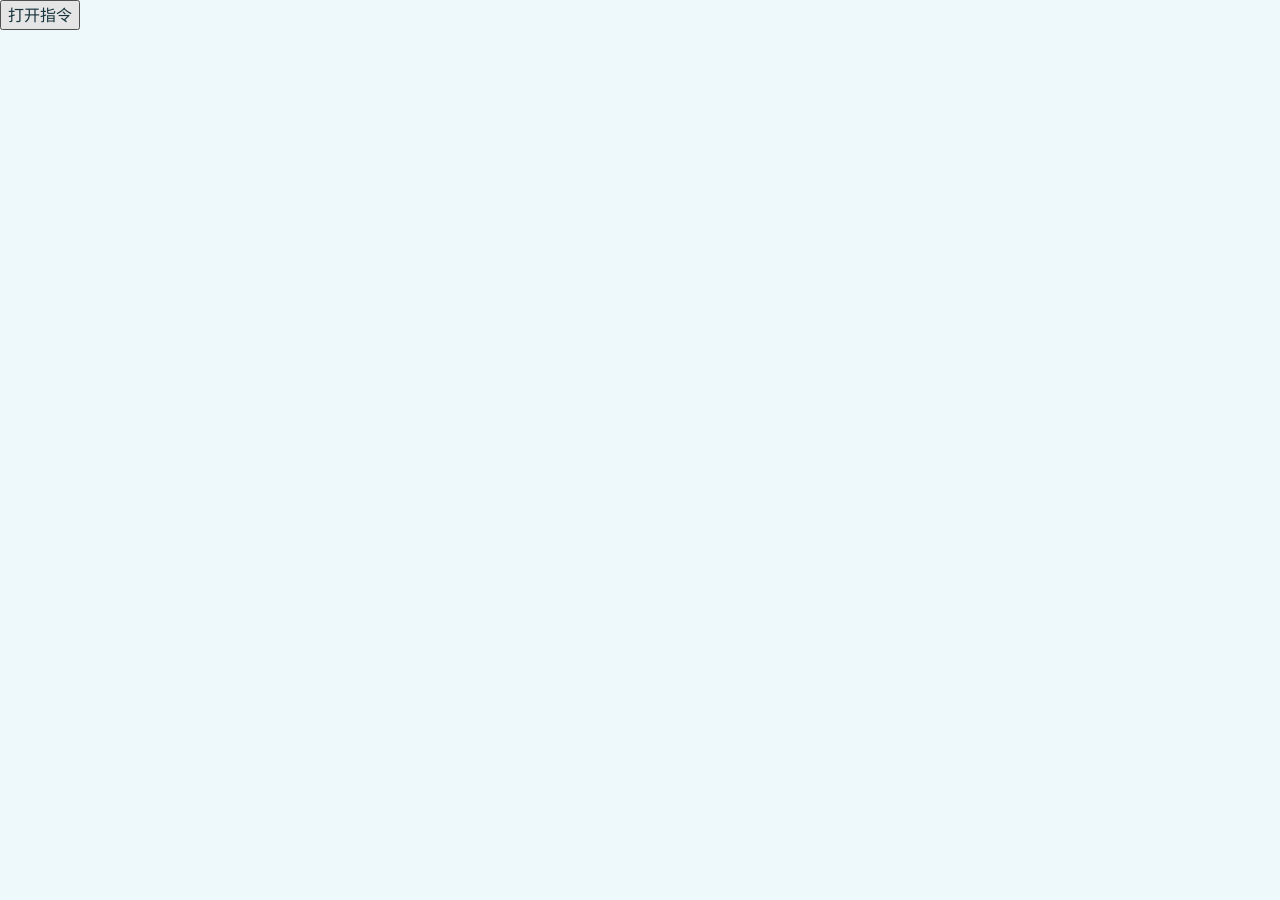
Test: CommandPalette › opens with Ctrl+K and executes the selected command
Press k
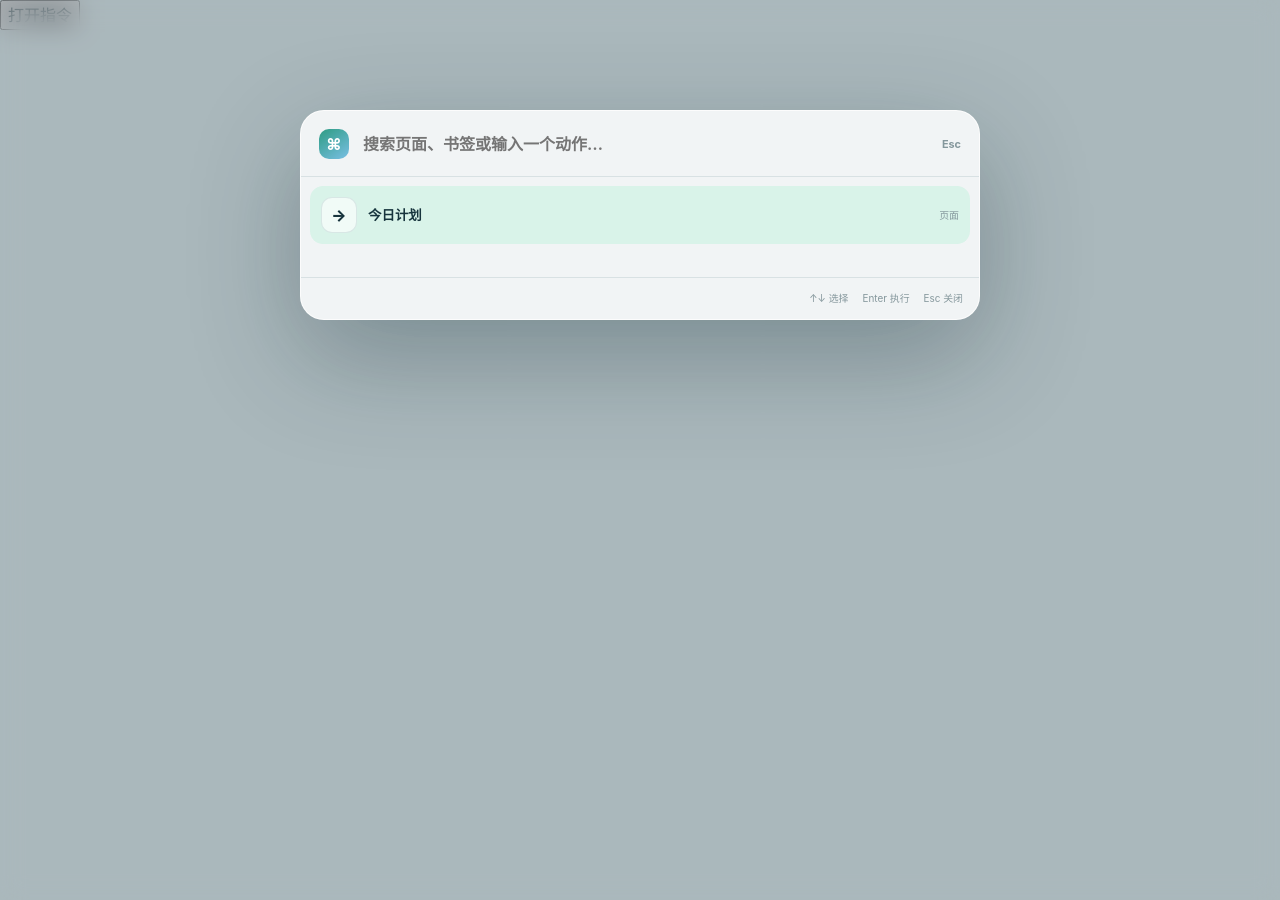
In the dropdown named "搜索指令": (645, 144) [361, 116, 930, 170], type "今日"
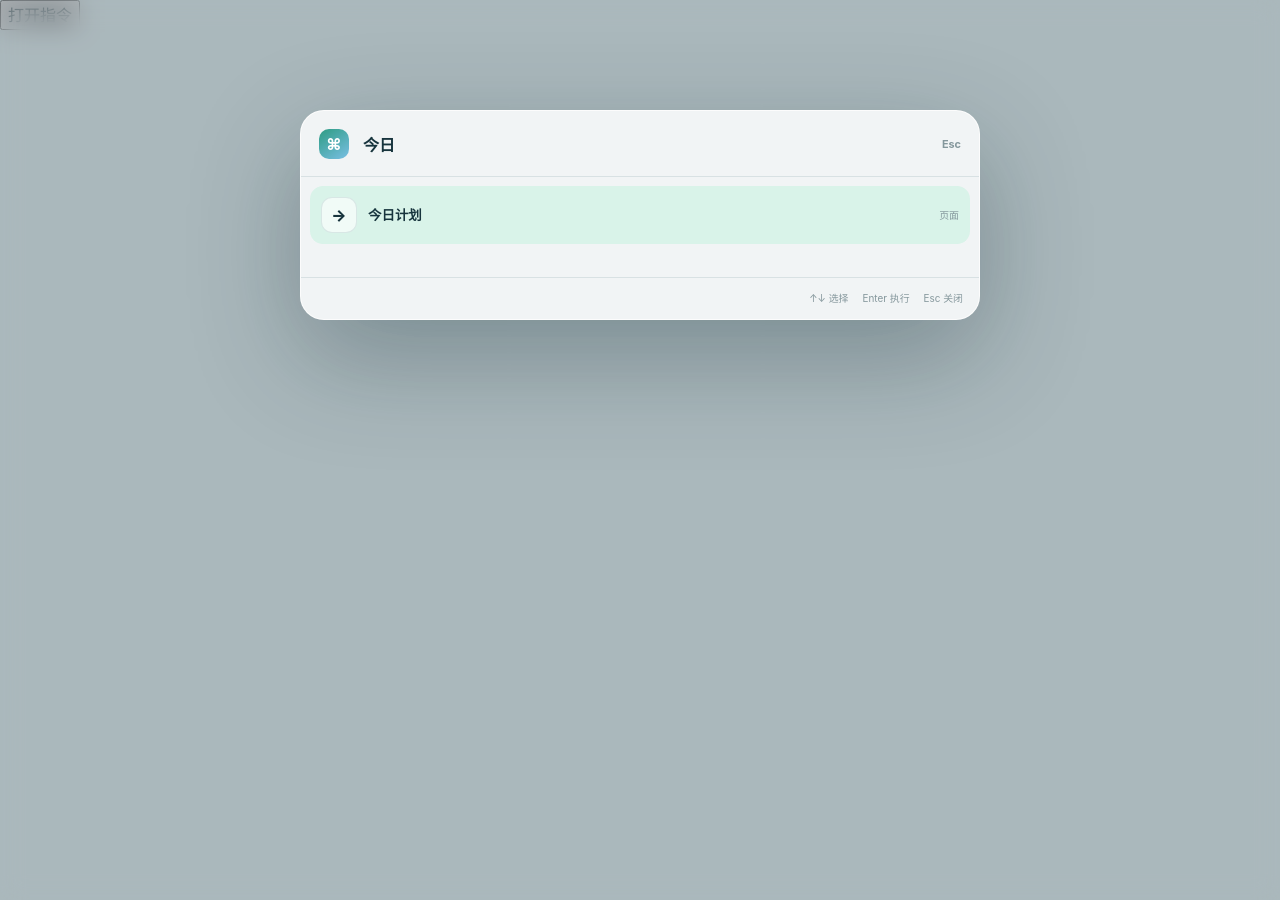
Press Enter in the dropdown named "搜索指令", box [361, 116, 930, 170]
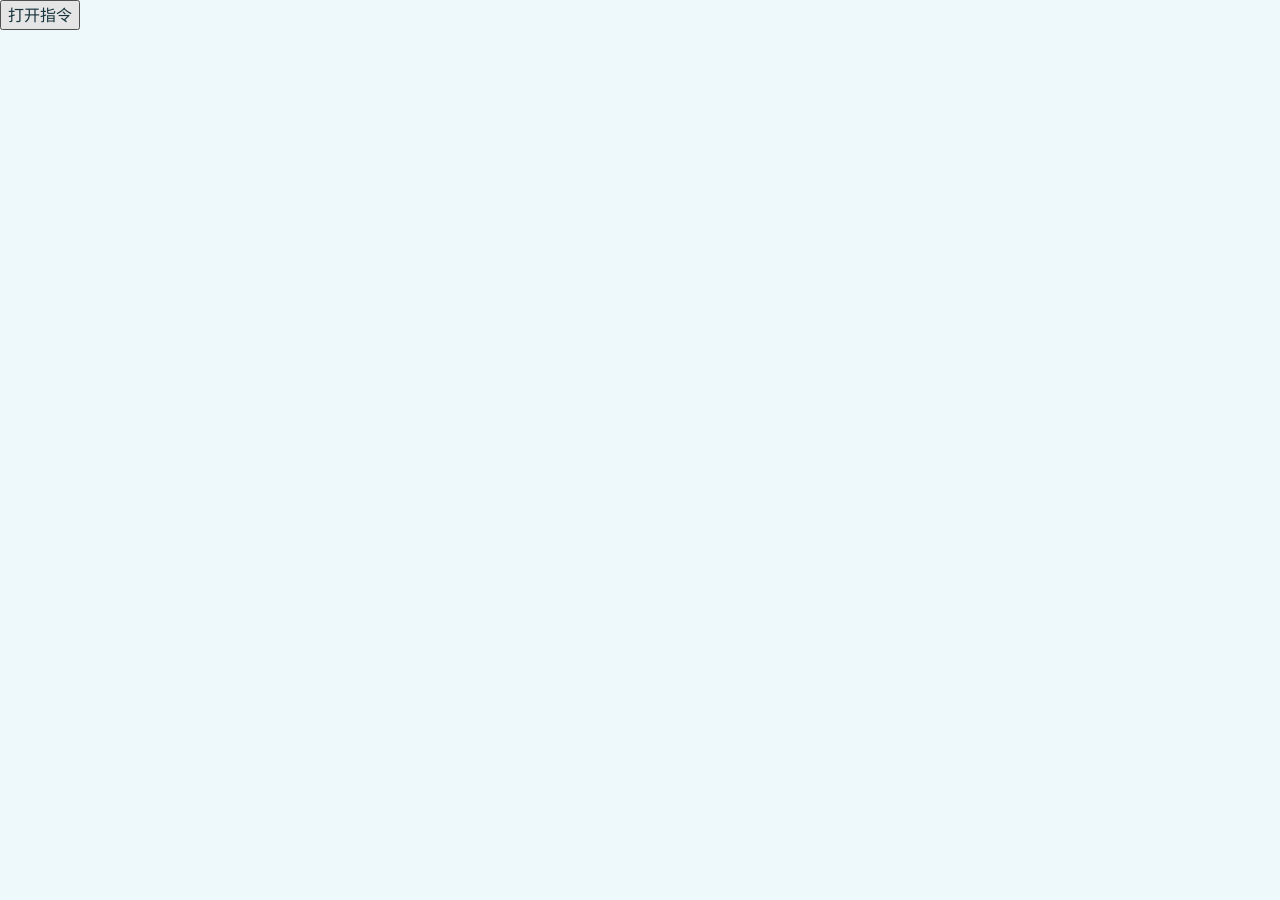
Expected: the dialog "全局指令中心" is gone
